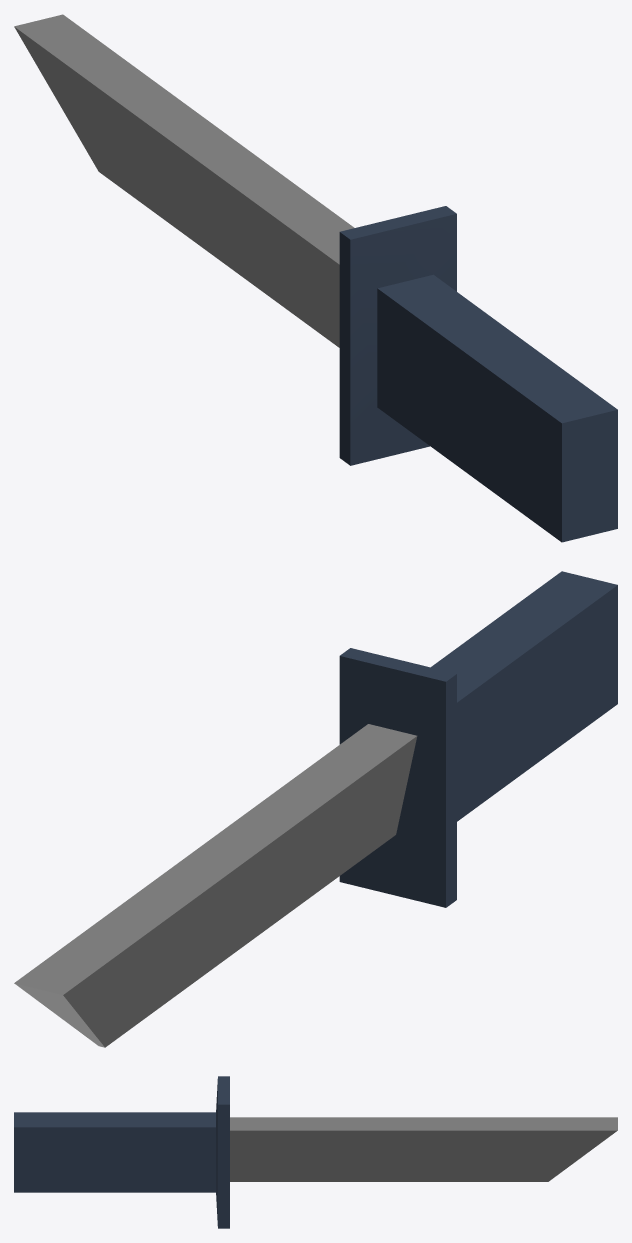
Rendered from Unwrapped_knife.fbx.
3 views of the same model, one above another, from view 1: azimuth 30°, elevation 25°; view 2: azimuth 150°, elevation 25°; view 3: azimuth 270°, elevation 25° (orthographic). The views are drawn at different scales.
Parts seen in each view (by area): view 1: Box002; view 2: Box002; view 3: Box002.
Boxes of the visible parts, x1,y1,x2,y2 form: Box002: [14, 14, 617, 542]; Box002: [14, 571, 617, 1047]; Box002: [14, 1076, 617, 1228].
Bounding box in the file's own units: 9.86 × 20.01 × 88.46.
